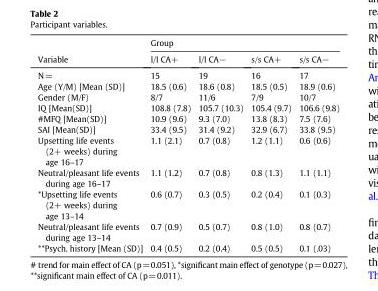table: (37, 37, 338, 252)
table column: (37, 37, 145, 252), (193, 37, 246, 252), (145, 37, 193, 252), (246, 37, 294, 252), (294, 37, 338, 252)
table column header: (37, 37, 338, 67)
table row: (37, 134, 338, 166), (37, 188, 338, 220), (37, 166, 338, 188), (37, 220, 338, 242), (37, 49, 338, 67), (37, 67, 338, 80), (37, 37, 338, 49), (37, 80, 338, 91), (37, 101, 338, 112), (37, 112, 338, 123), (37, 123, 338, 134), (37, 91, 338, 101), (37, 242, 338, 252)
table spanning cell: (37, 37, 145, 67), (145, 37, 338, 49)
